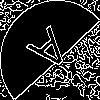A: (25, 25, 79, 82)
